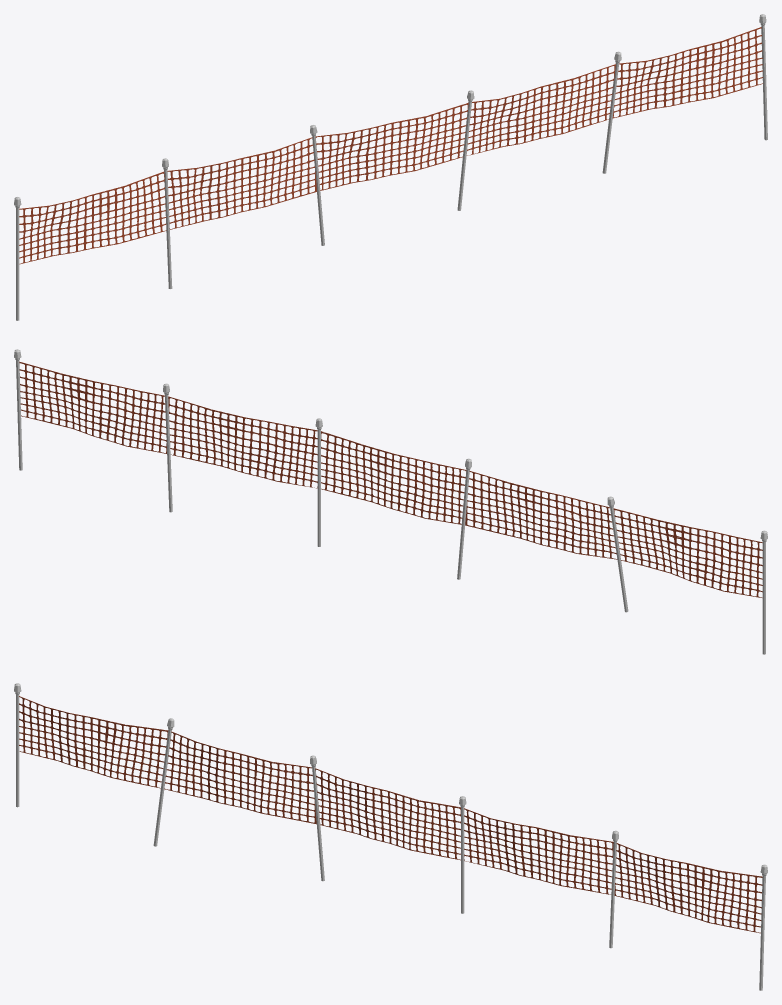
Rendered from SM_Prop_Barrier_09.fbx.
3 renders of one model, top to bottom at view 1: azimuth 30°, elevation 25°; view 2: azimuth 150°, elevation 25°; view 3: azimuth 330°, elevation 25°, orthographic.
Visible parts, largest first — view 1: SM_Prop_Barrier_09; view 2: SM_Prop_Barrier_09; view 3: SM_Prop_Barrier_09.
Part boxes in pixels (x1,y1,x2,y2): SM_Prop_Barrier_09: (14,14,767,320); SM_Prop_Barrier_09: (14,349,767,654); SM_Prop_Barrier_09: (14,683,767,990).
Size of the model in its own units: 1262 by 196 by 37.29.
